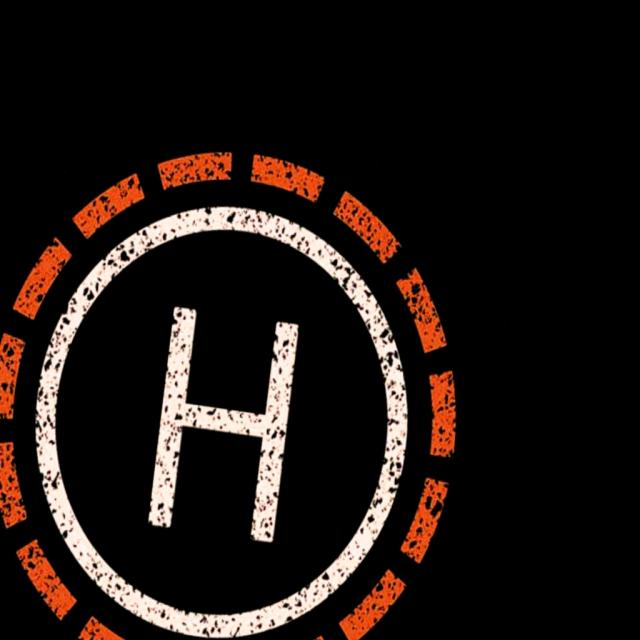helipad: (24, 203, 414, 639)
